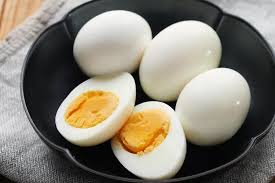Telur rebus: (143, 14, 224, 102), (53, 68, 137, 148), (174, 63, 251, 146), (113, 104, 187, 180), (71, 7, 154, 73)
